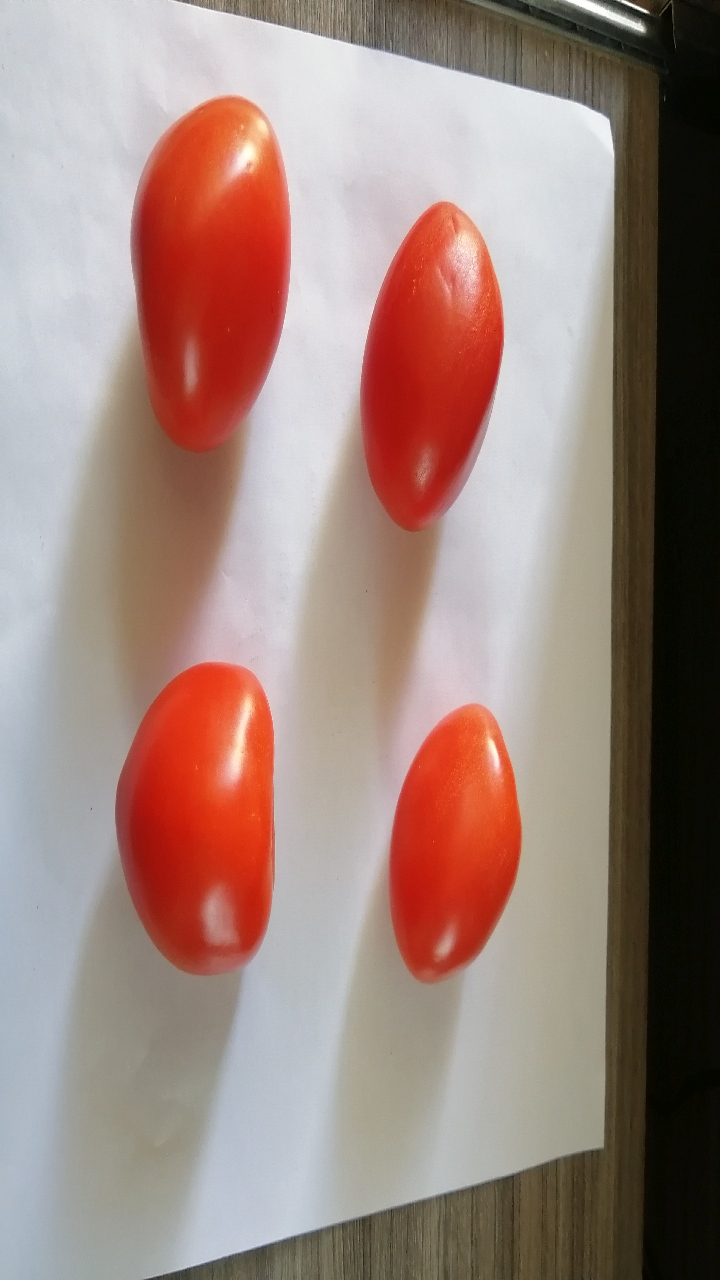tomateRojo: (95, 65, 312, 482), (100, 629, 303, 994), (334, 168, 515, 545), (369, 672, 544, 1002)
